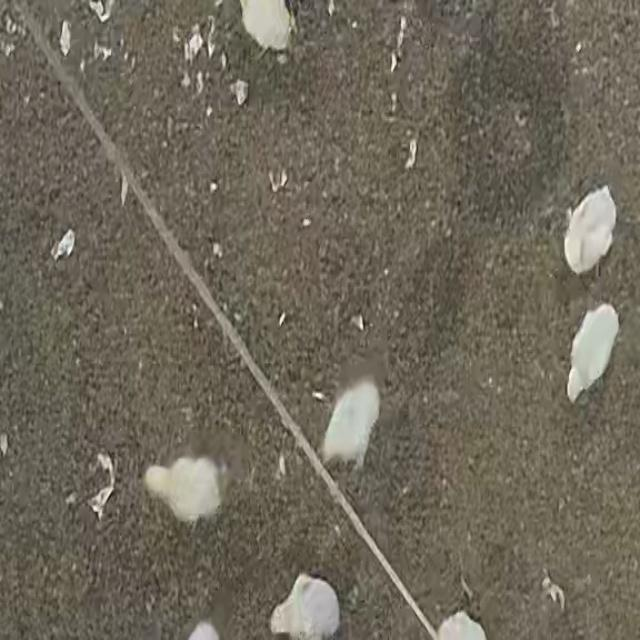chicken: (321, 379, 386, 470), (144, 454, 229, 523), (567, 304, 620, 402), (269, 572, 342, 640), (563, 187, 617, 276), (237, 1, 294, 53)
